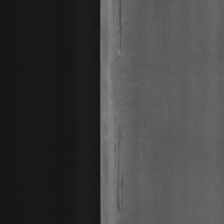inclusion: (128, 19, 144, 186), (112, 125, 125, 212), (114, 0, 125, 56)
